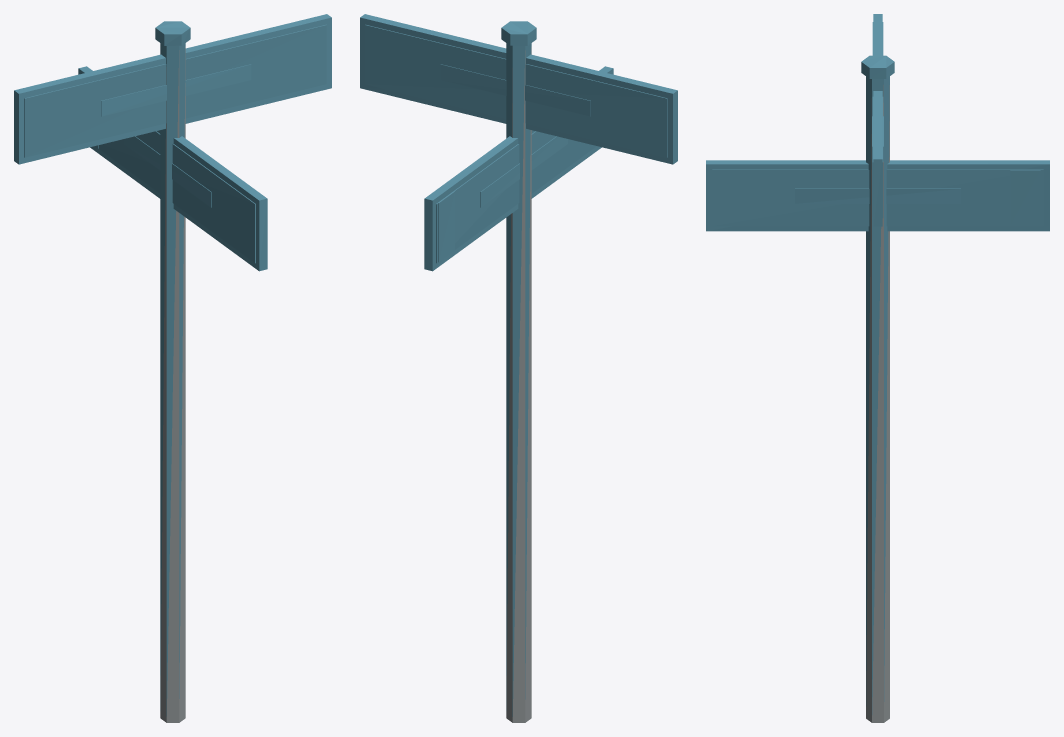
The model's file is street-name-sign-00.glb.
The picture shows the model from 3 angles, left to right: view 1: azimuth 30°, elevation 25°; view 2: azimuth 150°, elevation 25°; view 3: azimuth 270°, elevation 25°; orthographic projection. The views are drawn at different scales.
Visible parts, largest first — view 1: street_name_sign_00; view 2: street_name_sign_00; view 3: street_name_sign_00.
Part boxes in pixels (<box>): street_name_sign_00: <box>14,14,331,722</box>; street_name_sign_00: <box>360,14,677,722</box>; street_name_sign_00: <box>706,14,1049,722</box>.
Size of the model in its own units: 1.13 by 2.37 by 1.13.
